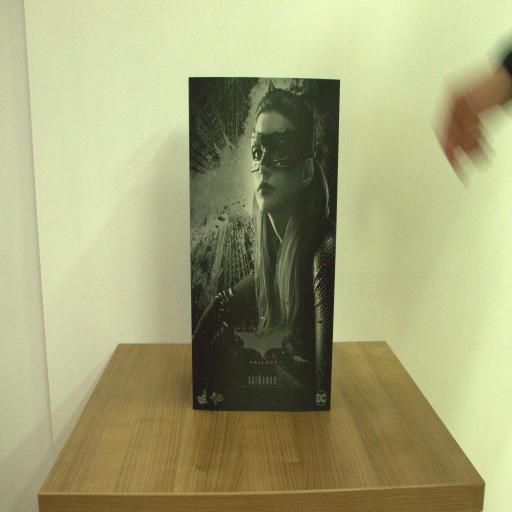catwoman: (189, 75, 341, 417)
